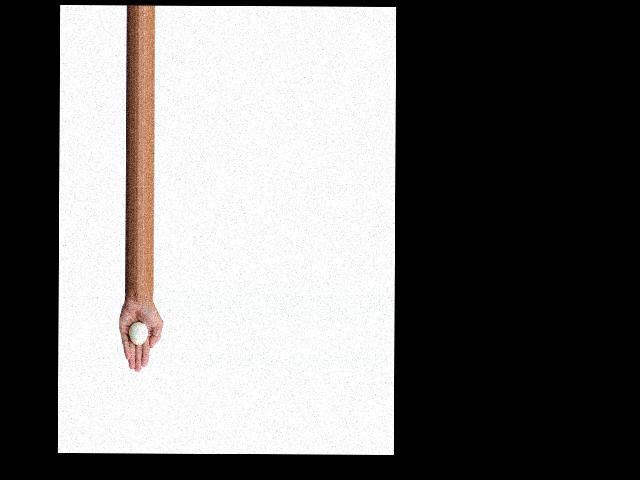egg: (129, 322, 147, 346)
